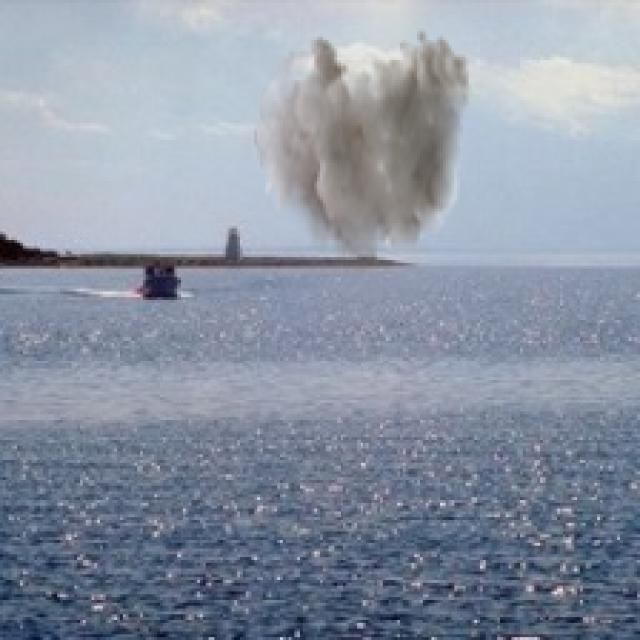smoke: (254, 28, 472, 283)
